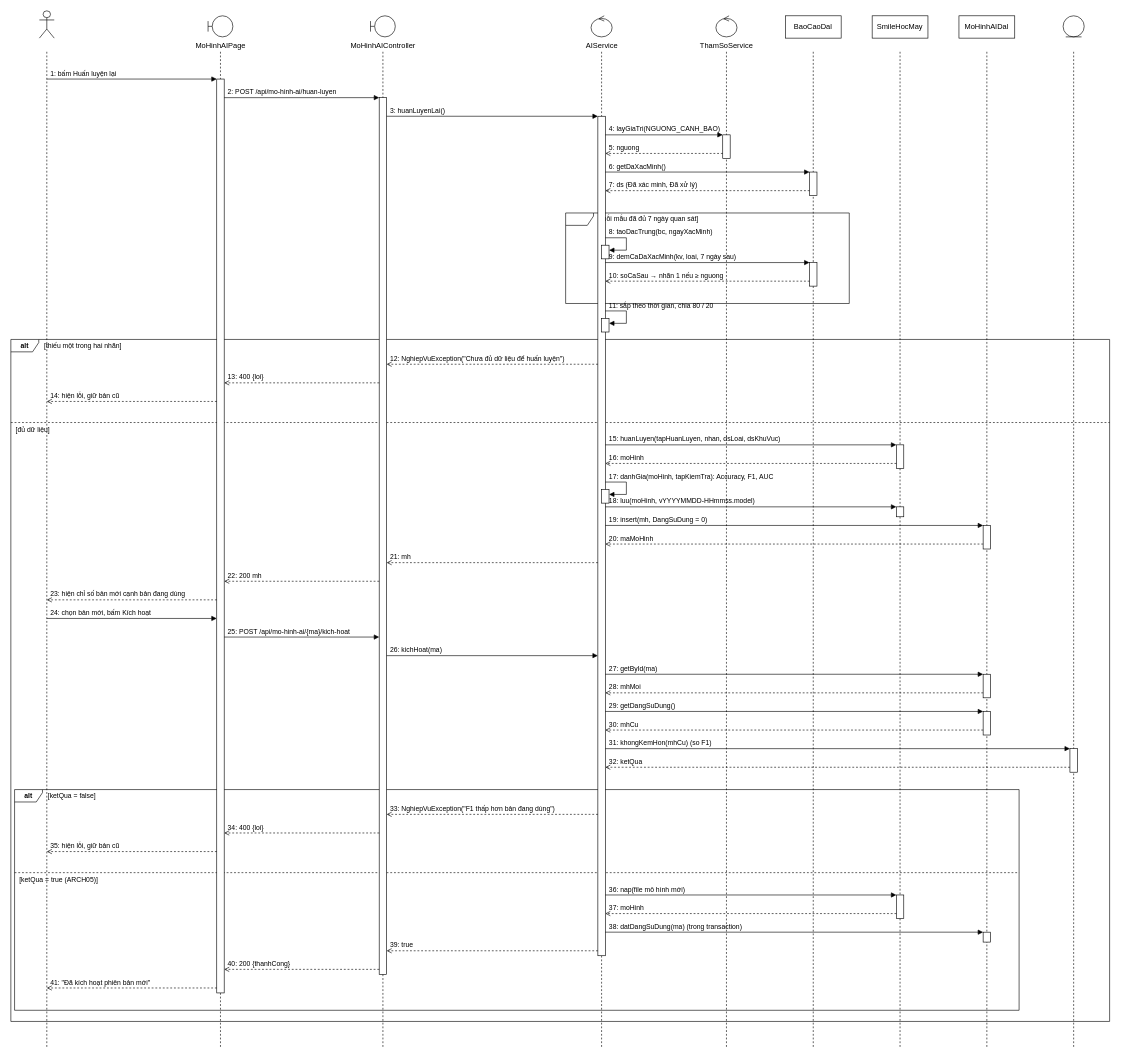
This 1122x1059 diagram has some shape labels left out. Each missing label, with the box of its shape:
loop: (565, 212, 849, 303)
mhMoi : MoHinhAI: (1062, 15, 1084, 37)
Quản trị viên: (39, 10, 54, 38)
